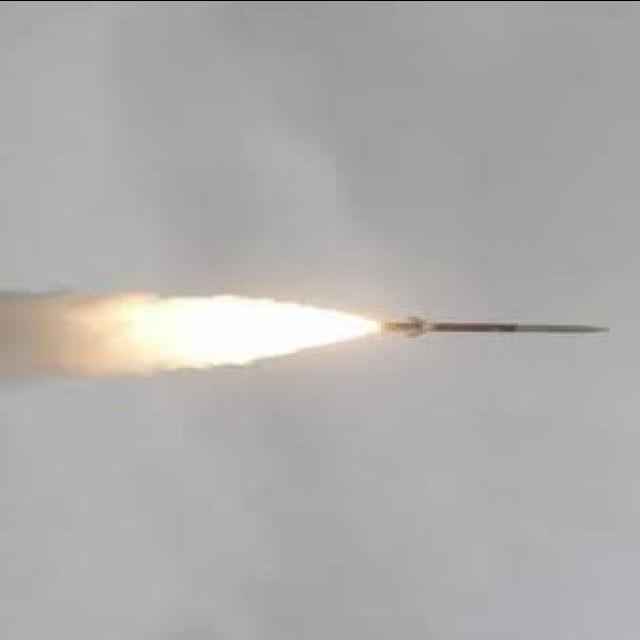missile: (380, 310, 613, 349)
